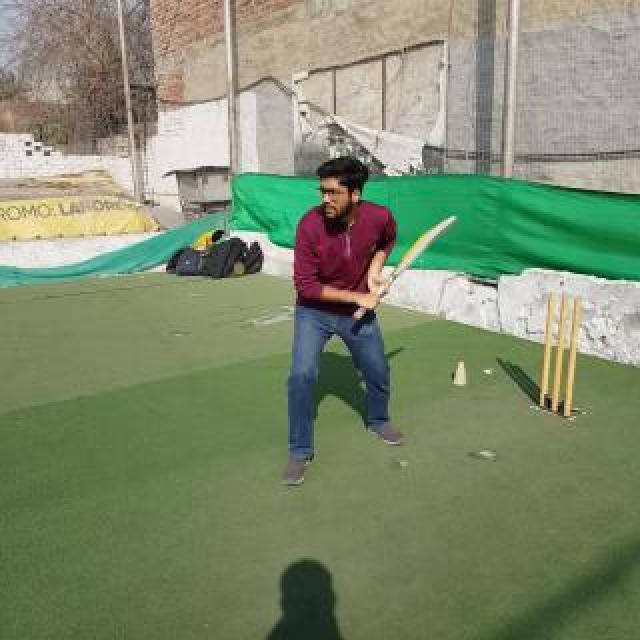bat: (352, 214, 458, 322)
